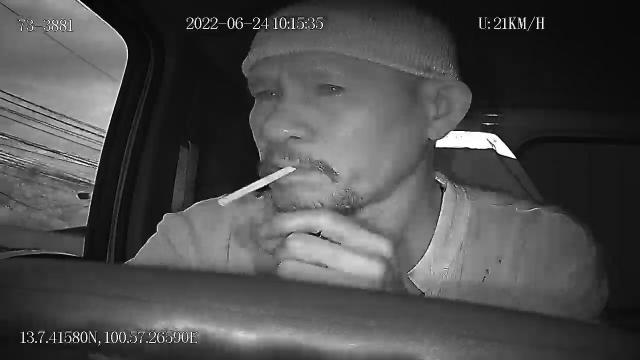SafeDriving: (306, 70, 357, 102), (242, 74, 289, 104)
Smoking: (216, 164, 304, 209)
